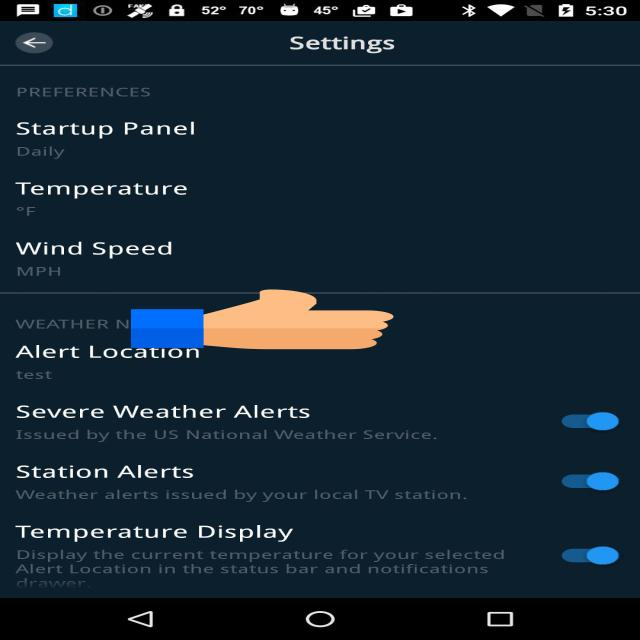privacy zuckering: (131, 288, 393, 351)
